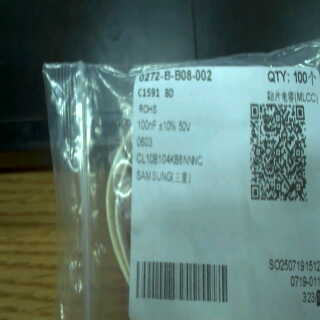100nF: (136, 116, 157, 136)
